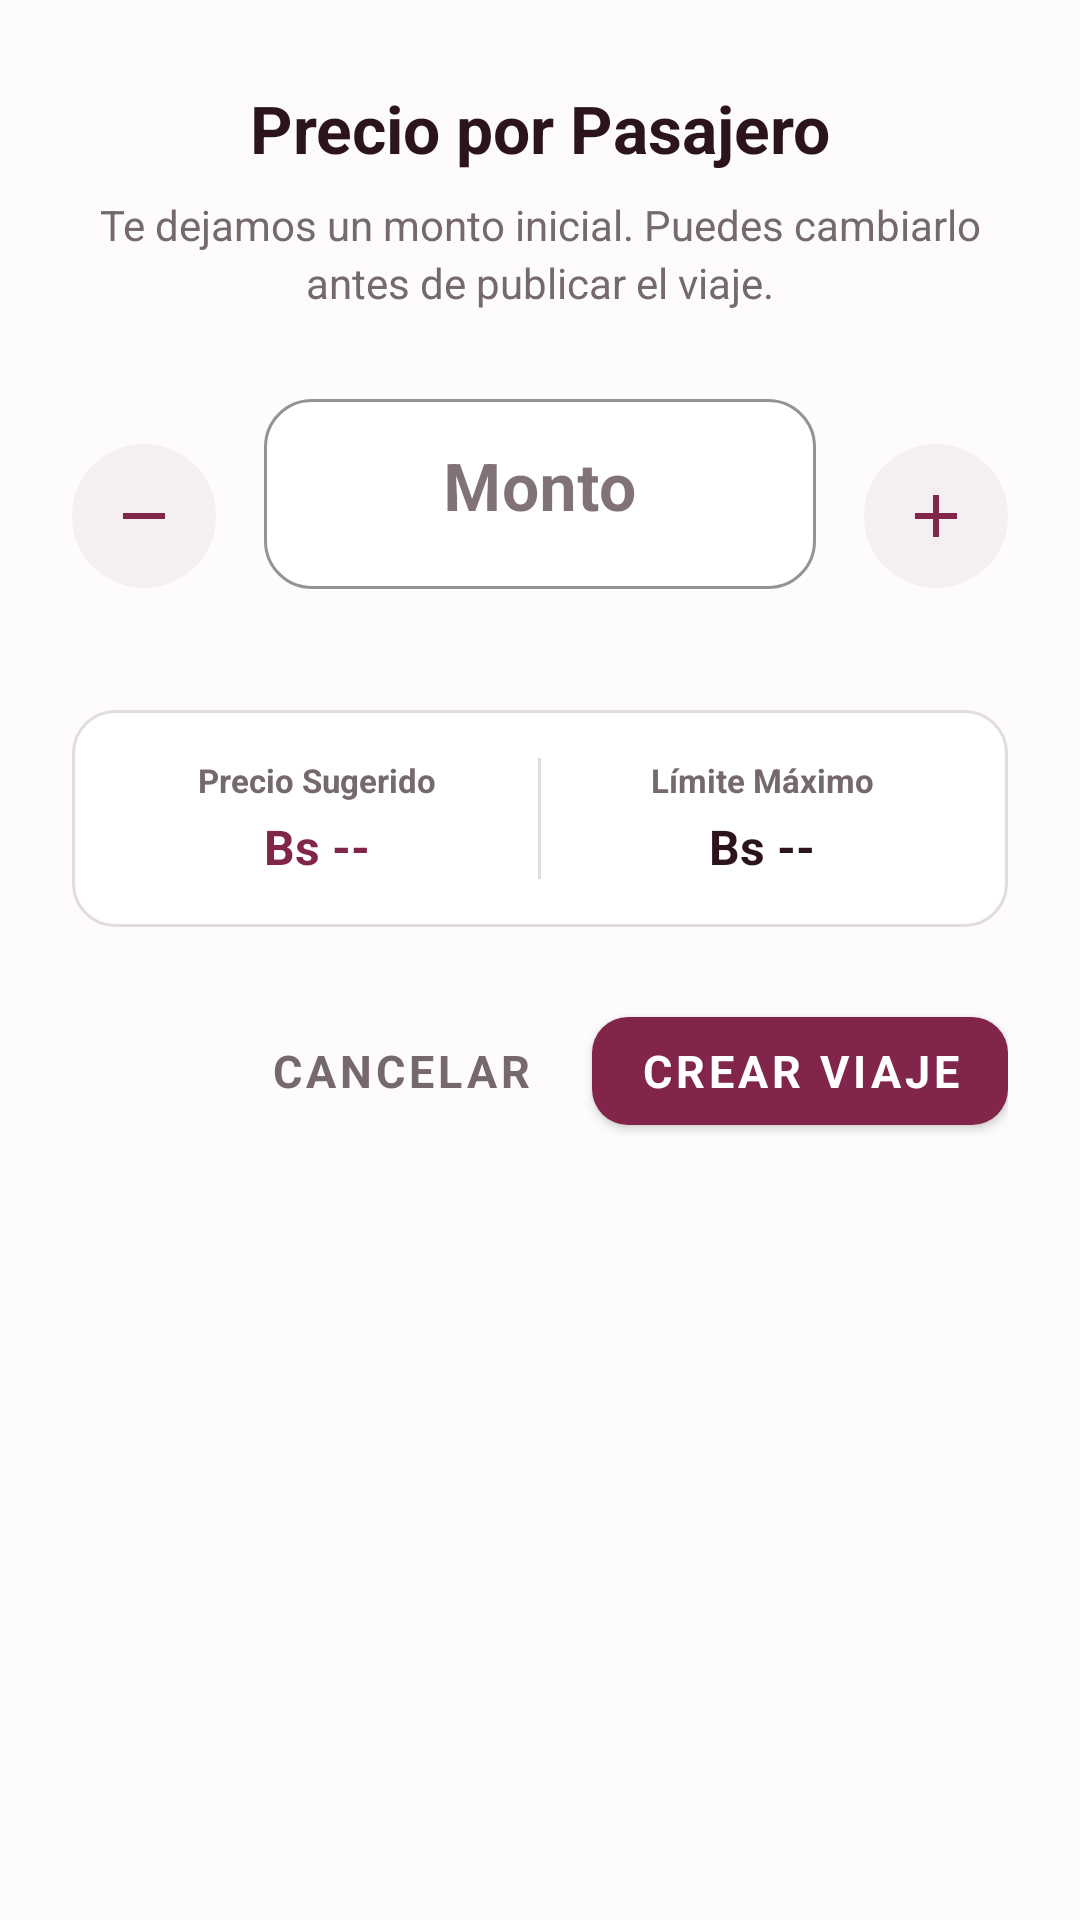

Icon click points for this 1080x1920 phone screenshot, format [x,y]:
Incrementar tarifa: [936,516]
